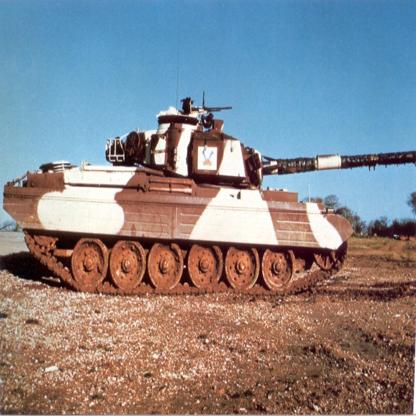Tank: (6, 95, 416, 309)
